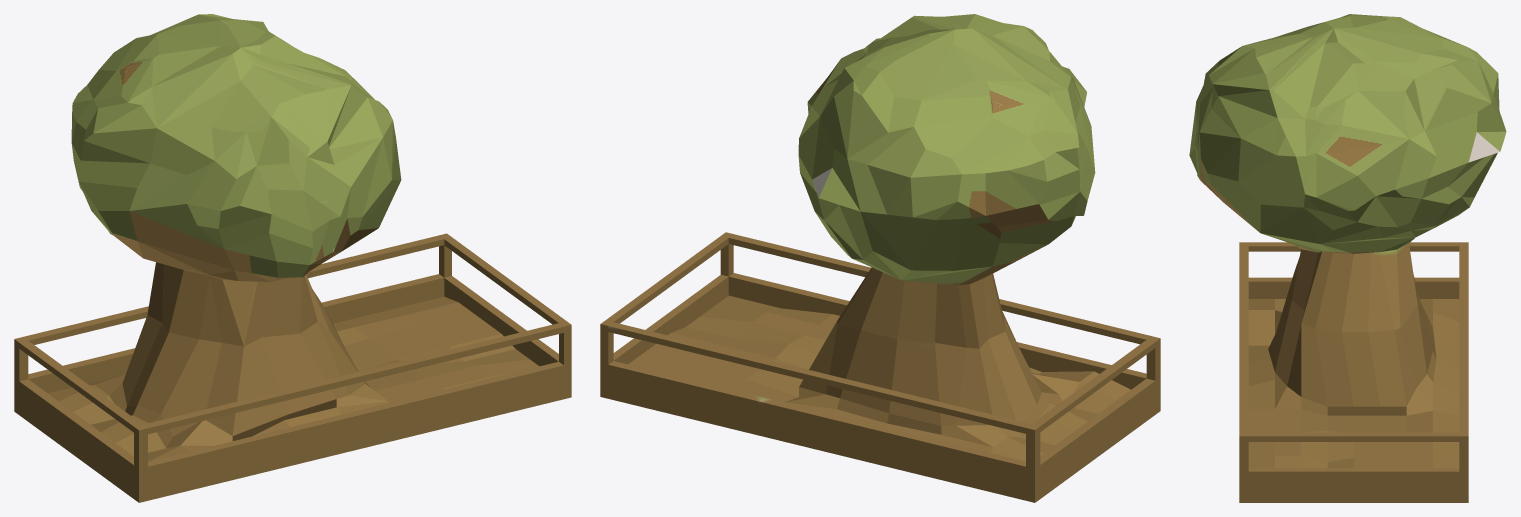
Rendered from Street_Tree_FA.fbx.
3 views of the same model, side by side, from view 1: azimuth 30°, elevation 25°; view 2: azimuth 150°, elevation 25°; view 3: azimuth 270°, elevation 25° (orthographic). The views are drawn at different scales.
Parts seen in each view (by area): view 1: Leaves; view 2: Leaves; view 3: Leaves.
Part boxes in pixels (x1,y1,x2,y2): Leaves: [14, 14, 571, 502]; Leaves: [600, 14, 1160, 502]; Leaves: [1189, 14, 1506, 502].
Size of the model in its own units: 600 by 505 by 415.
